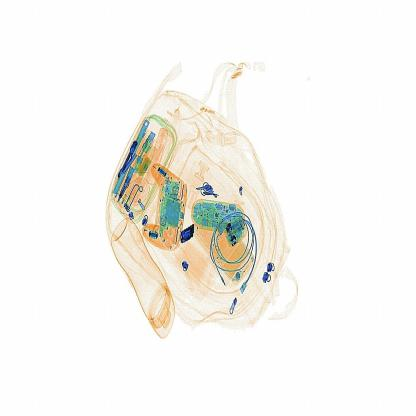knife: (175, 217, 203, 250)
